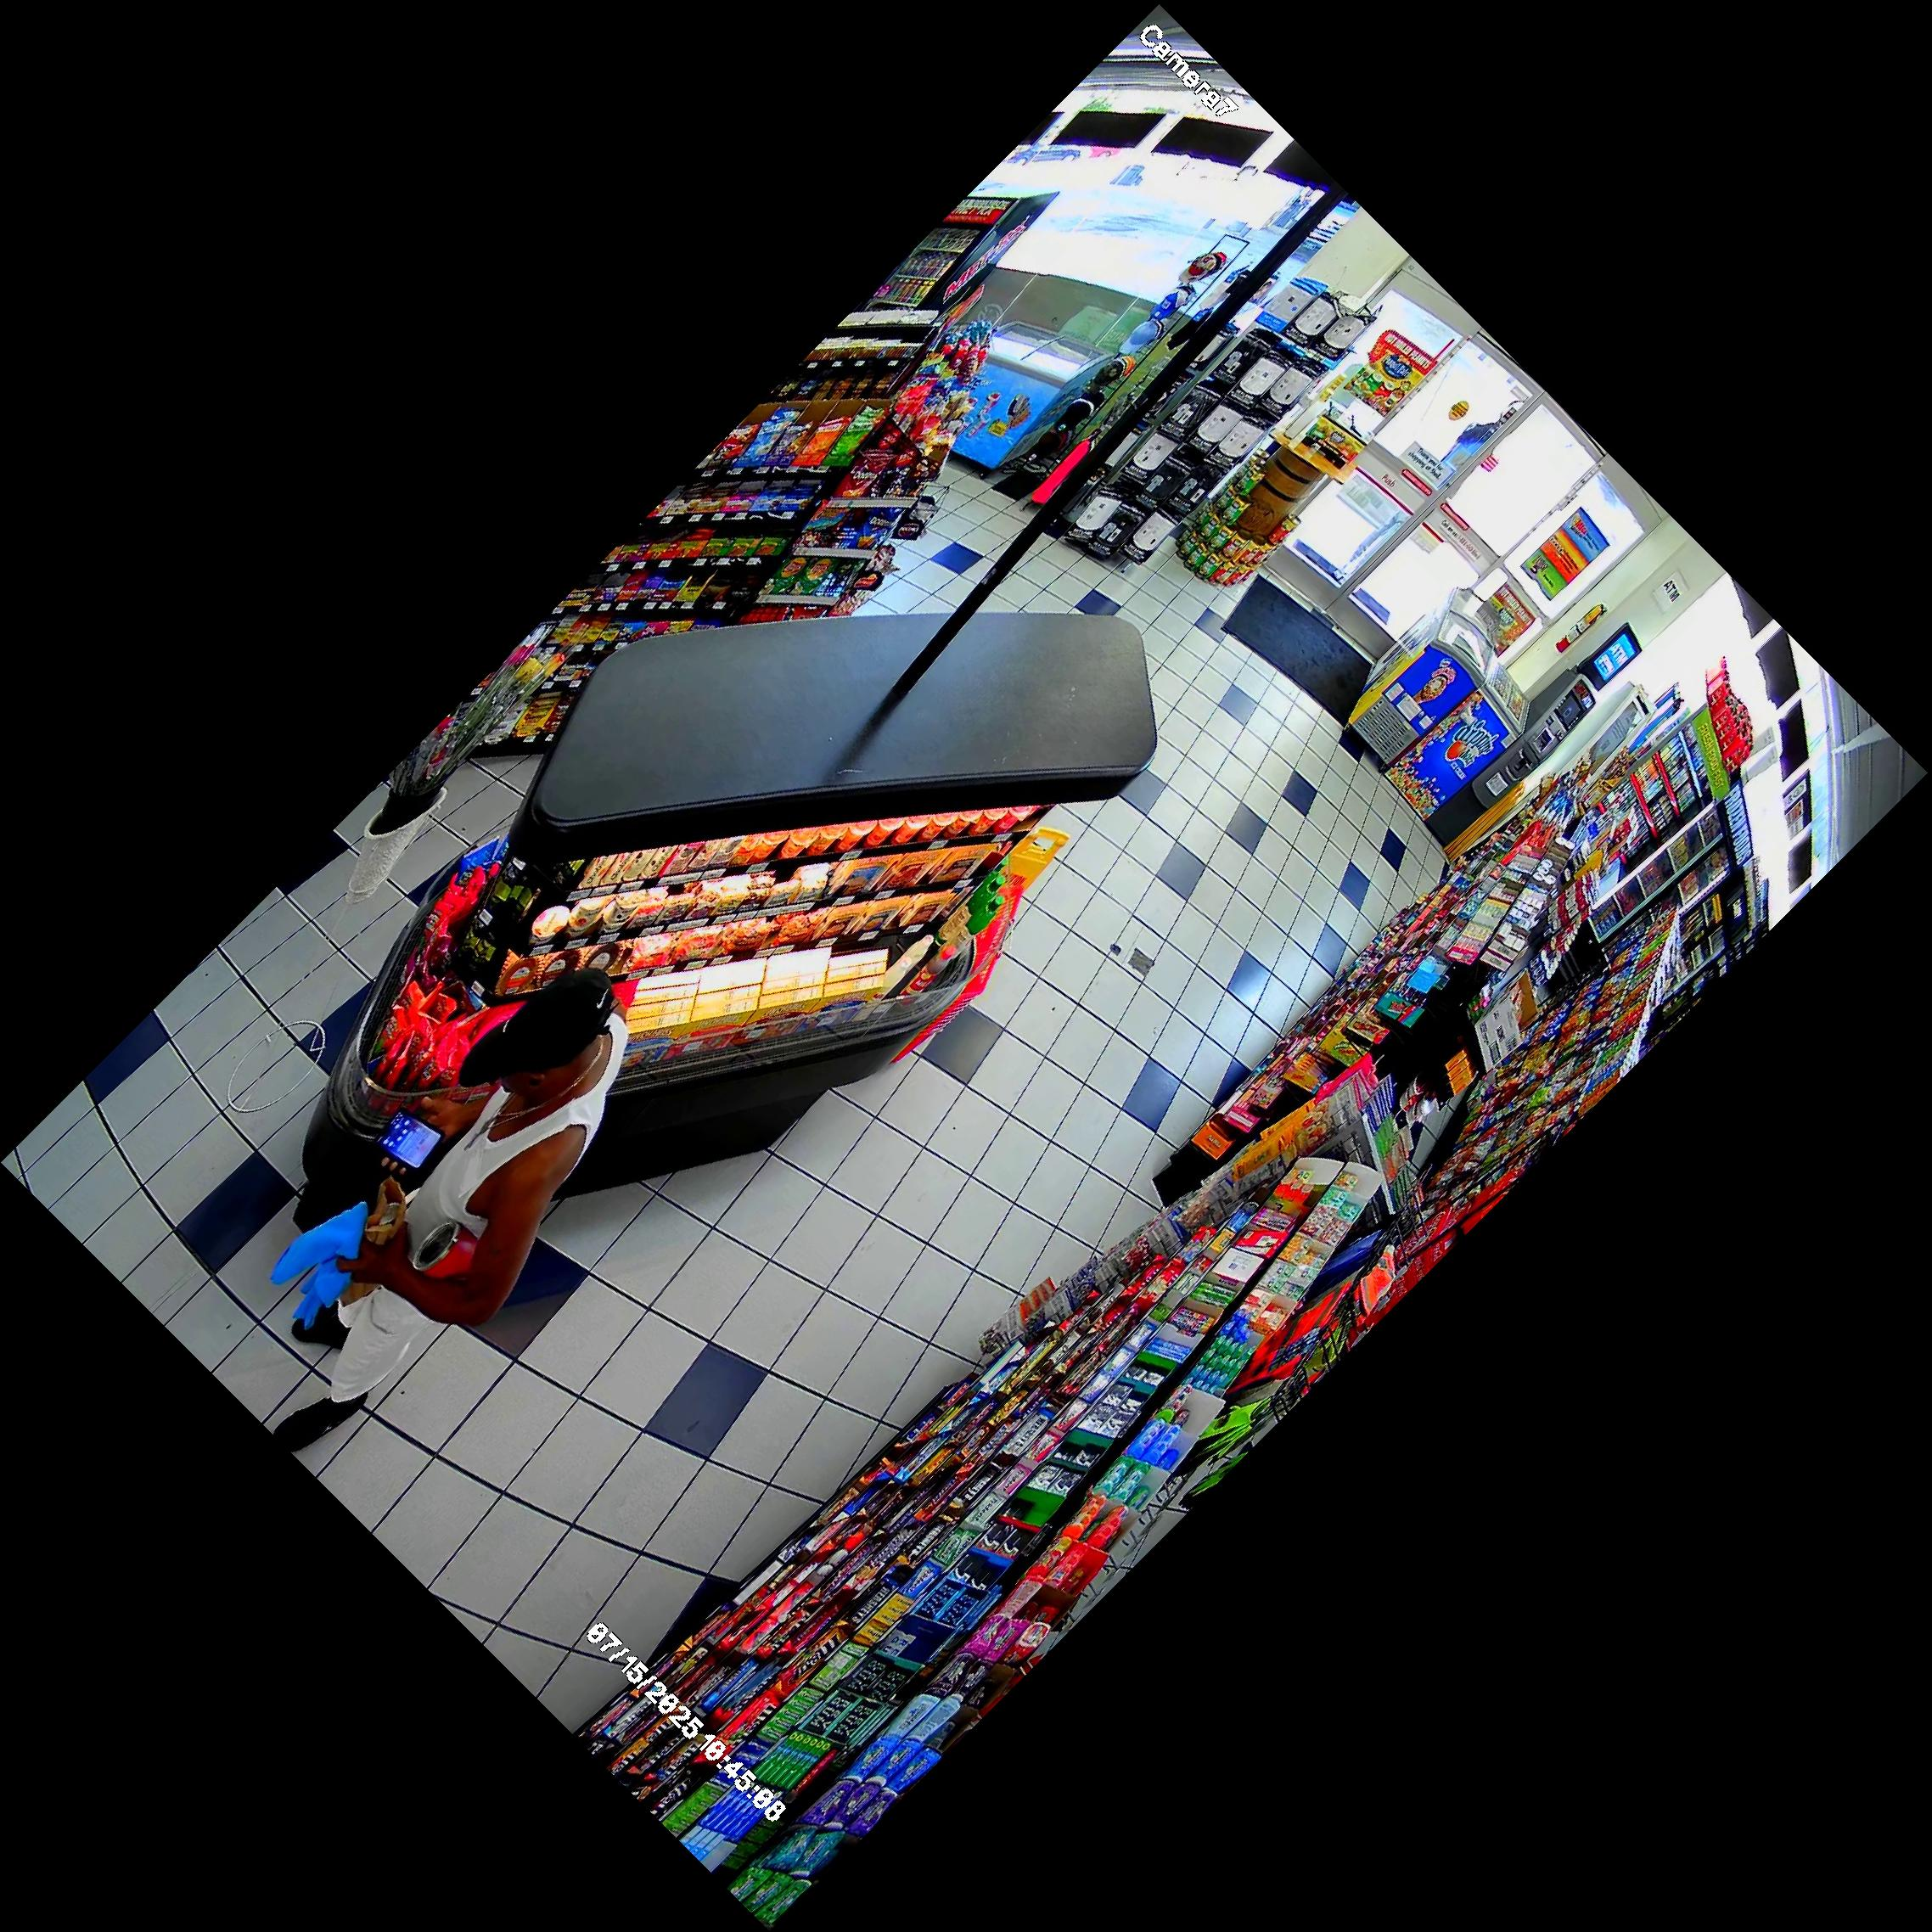phone: (368, 1100, 449, 1182)
